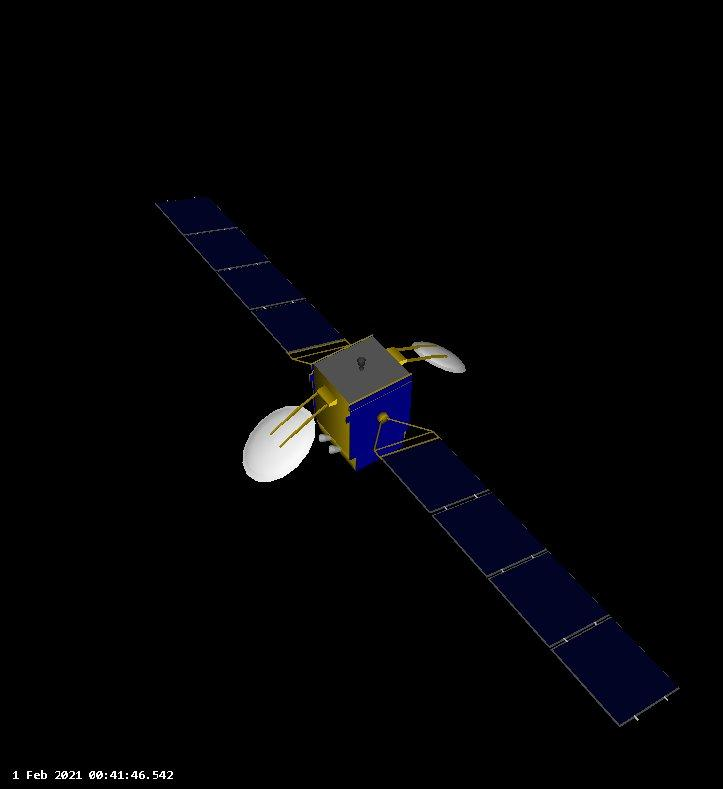antenna: (240, 404, 317, 484), (411, 340, 468, 375)
body: (308, 334, 416, 476)
solar: (378, 436, 683, 730), (153, 193, 347, 355)
thruster: (327, 443, 343, 456), (317, 432, 333, 444)
